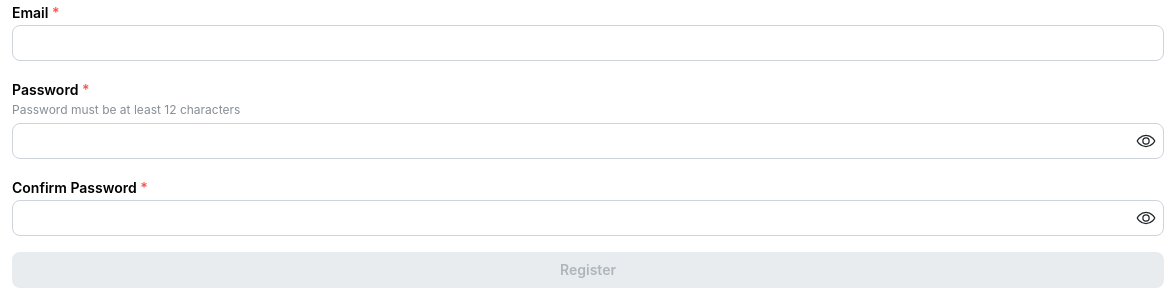
Scenario: RegisterForm › should disable submit when validation fails
This screenshot has width=1176, height=305.
Expected: the button "Register" is disabled, [12,252,1164,288]
In the field labelled "Email *": (588, 43) [12,25,1164,61], type "test@test.com"
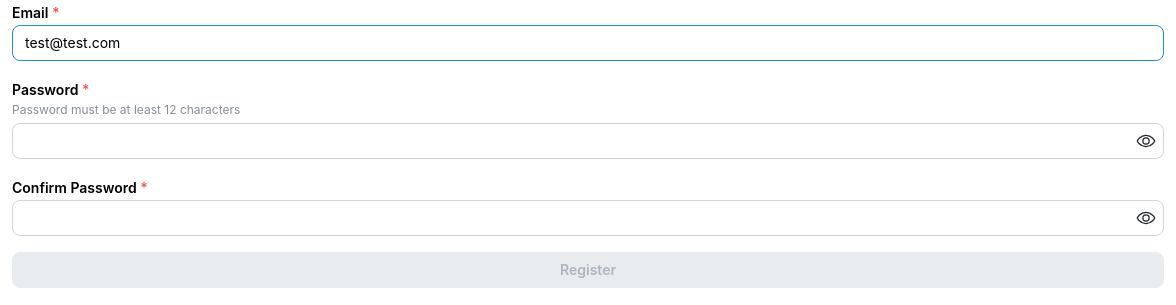
In the password field labelled "Password *": (588, 141) [13,124,1163,158], type "SecureP@ss123!"
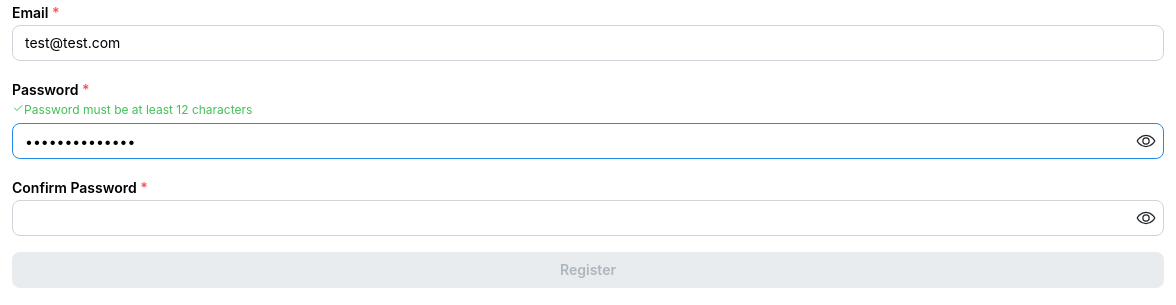
In the password field labelled "Confirm Password *": (588, 218) [13,201,1163,235], type "SecureP@ss123!"
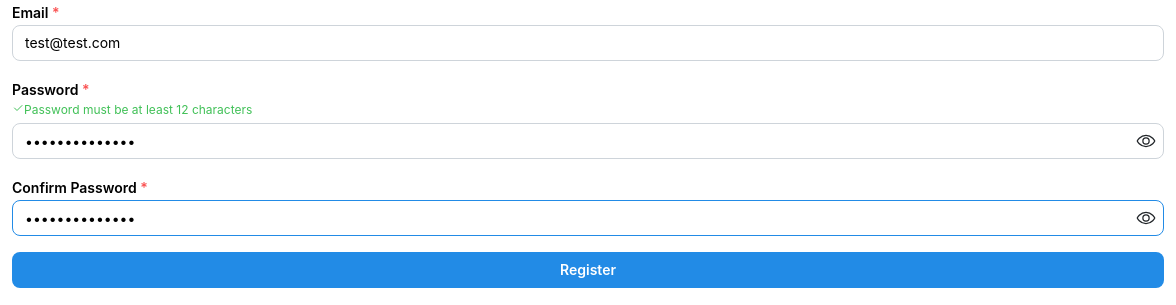
Now the button "Register" is enabled, box [12,252,1164,288]
